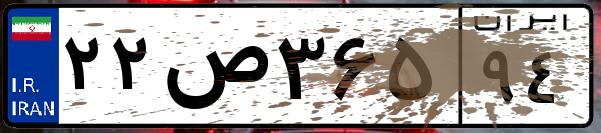2: (57, 26, 110, 100), (110, 28, 158, 98)
3: (270, 28, 330, 110)
4: (525, 38, 570, 115)
5: (385, 28, 445, 110)
6: (330, 28, 385, 110)
9: (475, 38, 525, 113)
ص: (158, 20, 270, 120)
